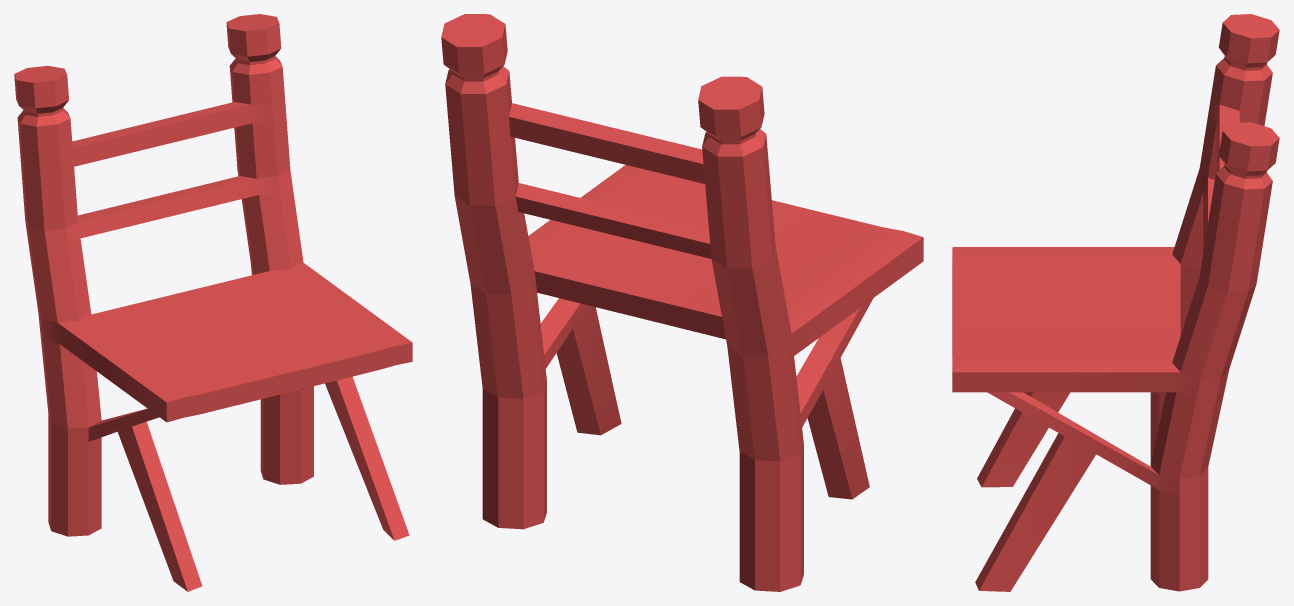
The model's file is chair_red.fbx.
3 renders of one model, left to right at view 1: azimuth 30°, elevation 25°; view 2: azimuth 150°, elevation 25°; view 3: azimuth 270°, elevation 25°, orthographic. The views are drawn at different scales.
Parts seen in each view (by area): view 1: chair_red1; view 2: chair_red1; view 3: chair_red1.
Part boxes in pixels (box(x1,y1,x2,y2)): chair_red1: box(14, 14, 412, 591); chair_red1: box(441, 14, 923, 591); chair_red1: box(952, 14, 1279, 591).
Size of the model in its own units: 2.81 by 4.34 by 2.87.
